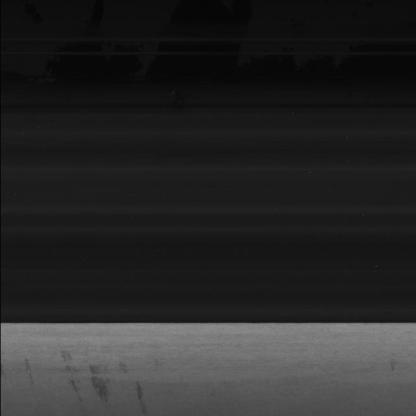water_spot: (17, 335, 158, 407)
